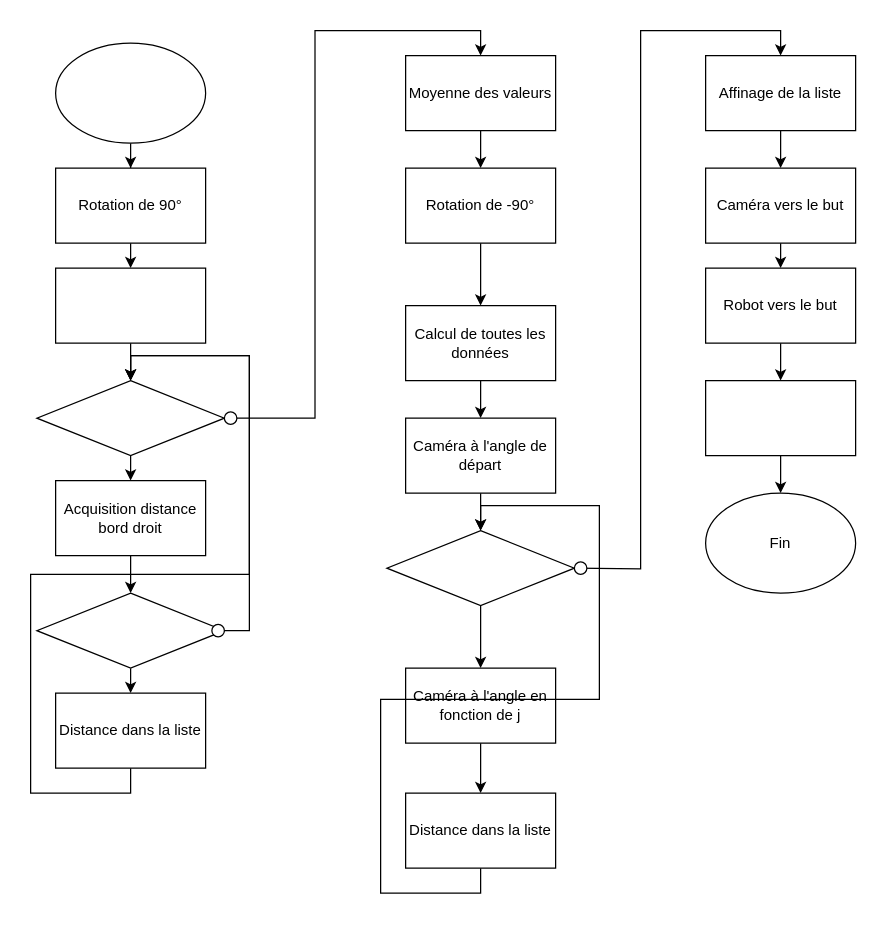
Image size: 878x925. Some labels were removed from this diagram. Here are the shapes that lost their labels. From the top down, the centre of each, then its label:
At point 130,92: "Début".
At point 130,305: "Caméra en position initiale".
At point 130,417: "i <= 20 ?".
At point 780,417: "Robot avance vers le but".
At point 480,567: "j <= fréquence ?".
At point 130,630: "Distance != 3000 ?".
